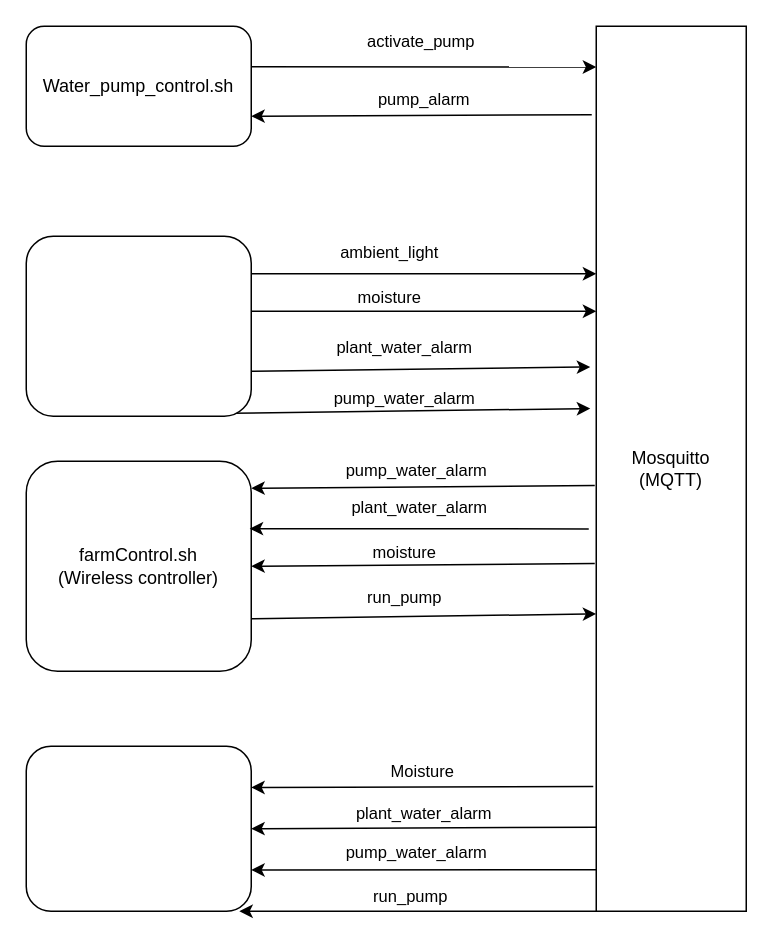
Image size: 773x950. Some labels were removed from this diagram. Here are the shapes that lost their labels. From the top down, the centre of each, then its label:
At pixel 138 325: "pico_publish_data.sh".
At pixel 138 828: "Webserver".
